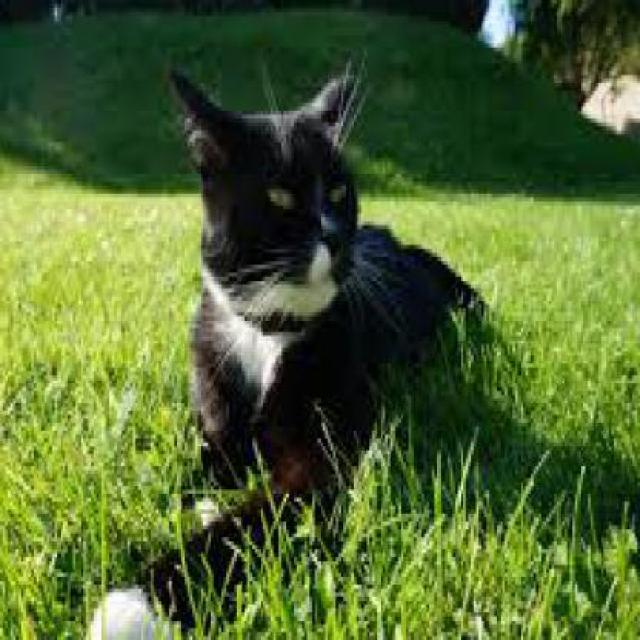animals: (73, 59, 585, 636)
